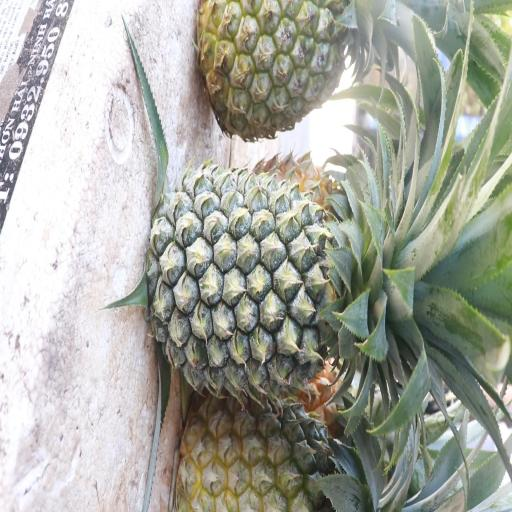------------------------------: (182, 393, 374, 512), (199, 0, 363, 136)
